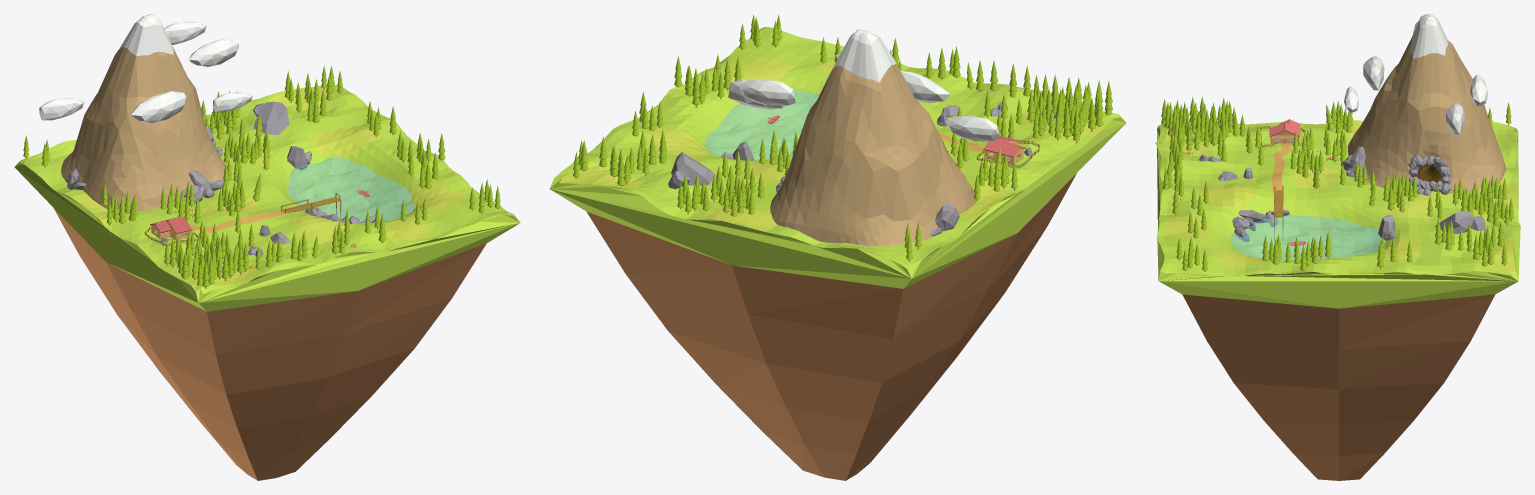
The model's file is low_poly_nature-transformed.glb.
The picture shows the model from 3 angles, left to right: view 1: azimuth 30°, elevation 25°; view 2: azimuth 150°, elevation 25°; view 3: azimuth 270°, elevation 25°; orthographic projection. The views are drawn at different scales.
Parts seen in each view (by area): view 1: Object_2, Object_11, Object_18; view 2: Object_2, Object_11, Object_18; view 3: Object_2, Object_11, Object_18.
Boxes of the visible parts, bbox=[...] form: Object_2: bbox=[14, 14, 520, 480]; Object_11: bbox=[287, 157, 415, 222]; Object_18: bbox=[66, 101, 375, 273]; Object_2: bbox=[549, 14, 1126, 480]; Object_11: bbox=[704, 89, 819, 160]; Object_18: bbox=[668, 102, 1056, 236]; Object_2: bbox=[1155, 14, 1520, 480]; Object_11: bbox=[1229, 214, 1385, 260]; Object_18: bbox=[1192, 126, 1485, 241].
Bounding box in the file's own units: 21.29 × 25.99 × 20.07.
3 materials, 3 textured.
